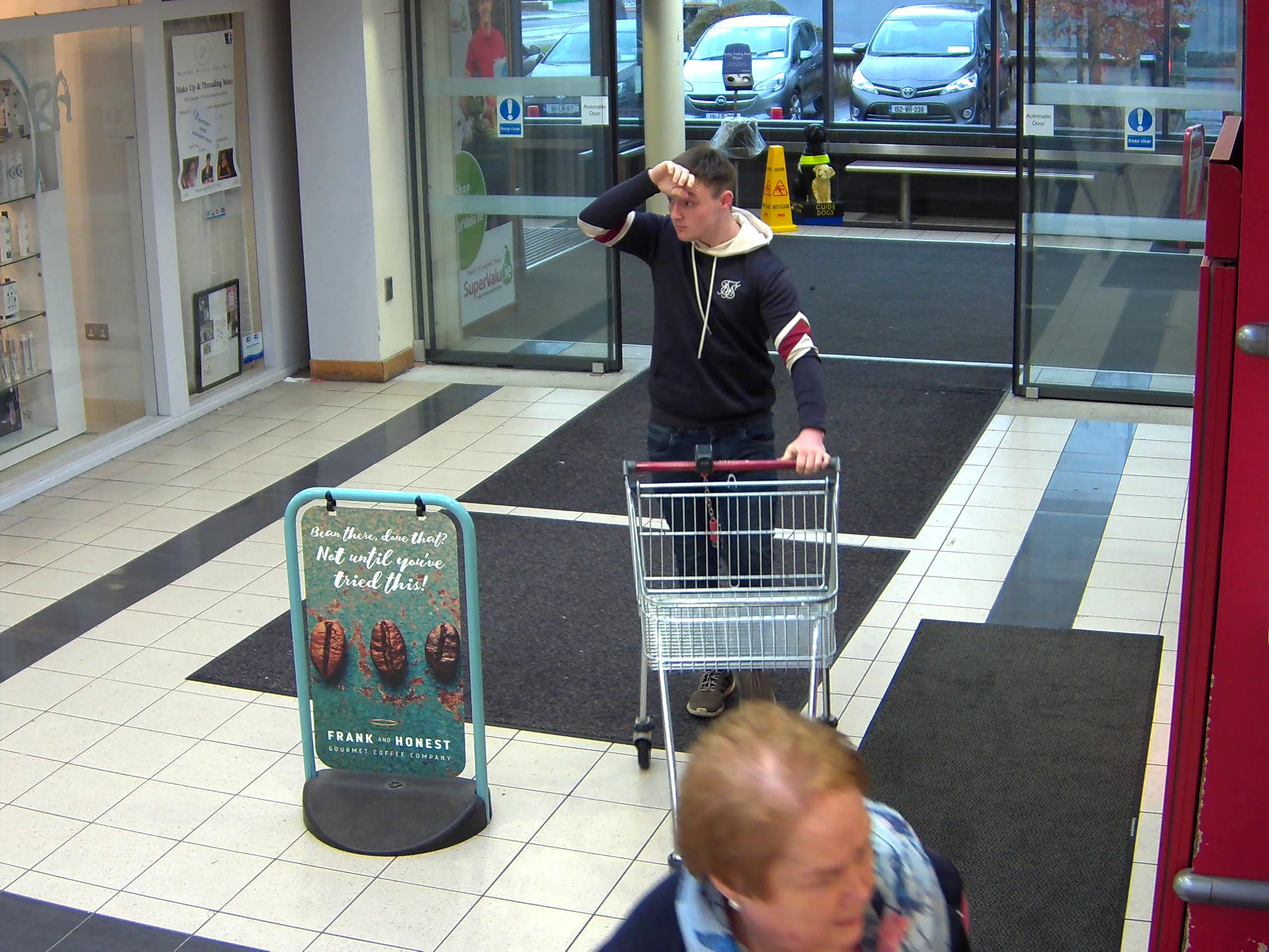empty-trolly: (620, 446, 844, 712)
person: (581, 143, 831, 715)
person-with-empty-basket-trolly: (581, 141, 844, 712)
